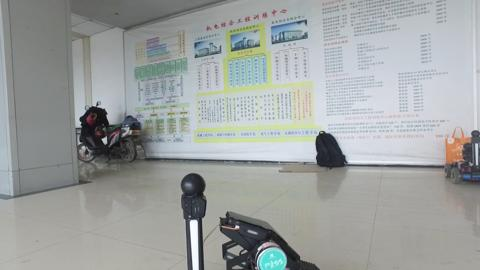bag: (313, 130, 350, 170), (444, 124, 470, 165)
chariot: (442, 128, 480, 185)
